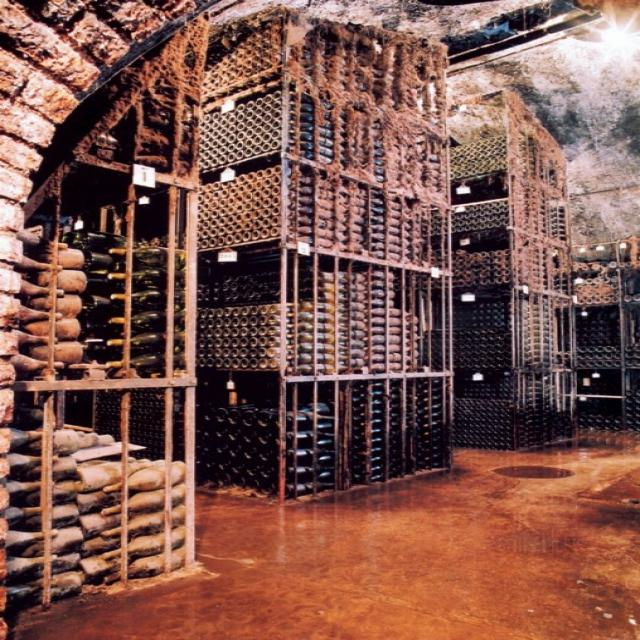bottels: (451, 296, 556, 367)
bottles occluded: (20, 404, 180, 613), (21, 226, 185, 380), (199, 269, 418, 373), (291, 163, 427, 263), (203, 398, 335, 495), (335, 375, 449, 487), (451, 232, 558, 292), (203, 163, 277, 246), (454, 397, 573, 444), (450, 132, 504, 179), (447, 198, 508, 234), (572, 343, 632, 367)
floor -X: (13, 424, 636, 638)
shelves crop: (199, 4, 451, 503), (15, 13, 207, 621), (450, 90, 573, 448), (571, 232, 636, 429)
vault: (203, 0, 635, 243)
